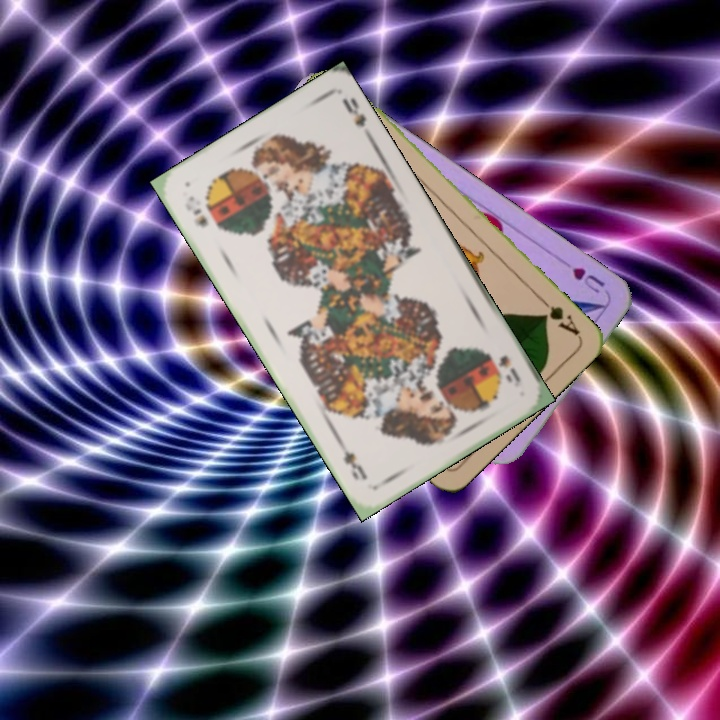GA: (535, 293, 583, 339)
HU: (568, 263, 608, 296)
SO: (484, 348, 524, 386), (183, 191, 211, 230)
